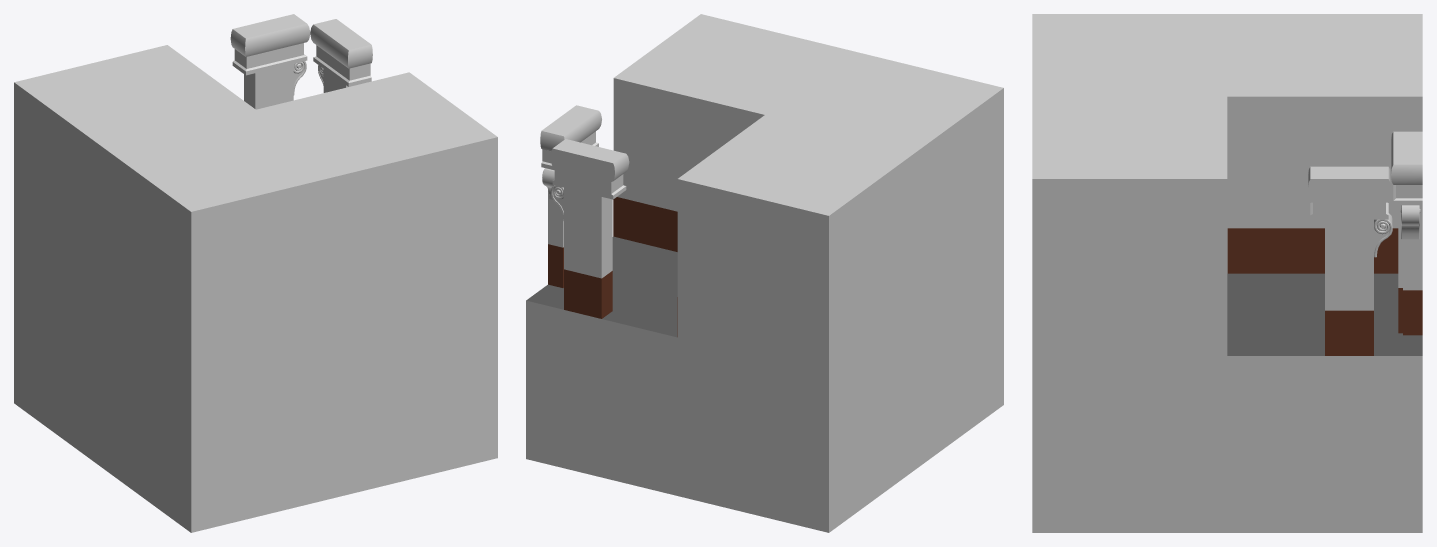
Rendered from House_Base_Side_ccv_var0.fbx.
The picture shows the model from 3 angles, left to right: view 1: azimuth 30°, elevation 25°; view 2: azimuth 150°, elevation 25°; view 3: azimuth 270°, elevation 25°; orthographic projection. The views are drawn at different scales.
Parts seen in each view (by area): view 1: House_Base_Side_ccv_MESH; view 2: House_Base_Side_ccv_MESH; view 3: House_Base_Side_ccv_MESH.
Boxes of the visible parts, box(x1,y1,x2,y2) form: House_Base_Side_ccv_MESH: box(14, 14, 497, 532); House_Base_Side_ccv_MESH: box(526, 14, 1003, 532); House_Base_Side_ccv_MESH: box(1032, 14, 1422, 532).
Bounding box in the file's own units: 4 × 4 × 4.
